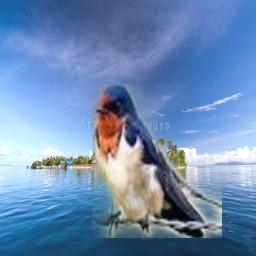Swallow: (92, 84, 222, 238)
